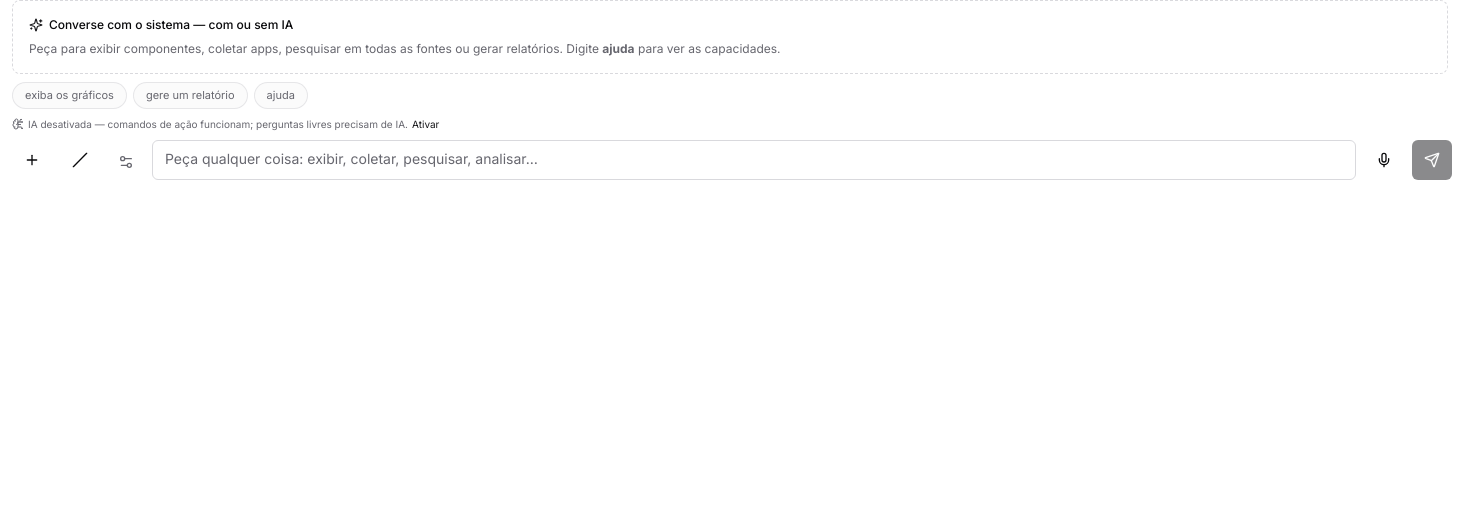
Test case: UnifiedChatPanel — sem IA (ações locais) › "exiba os gráficos" renderiza o componente real na conversa
The image size is (1464, 531).
Type "exiba os gráficos" into the text box named "Mensagem para a IA" at (754, 160), box [152,140,1356,180]
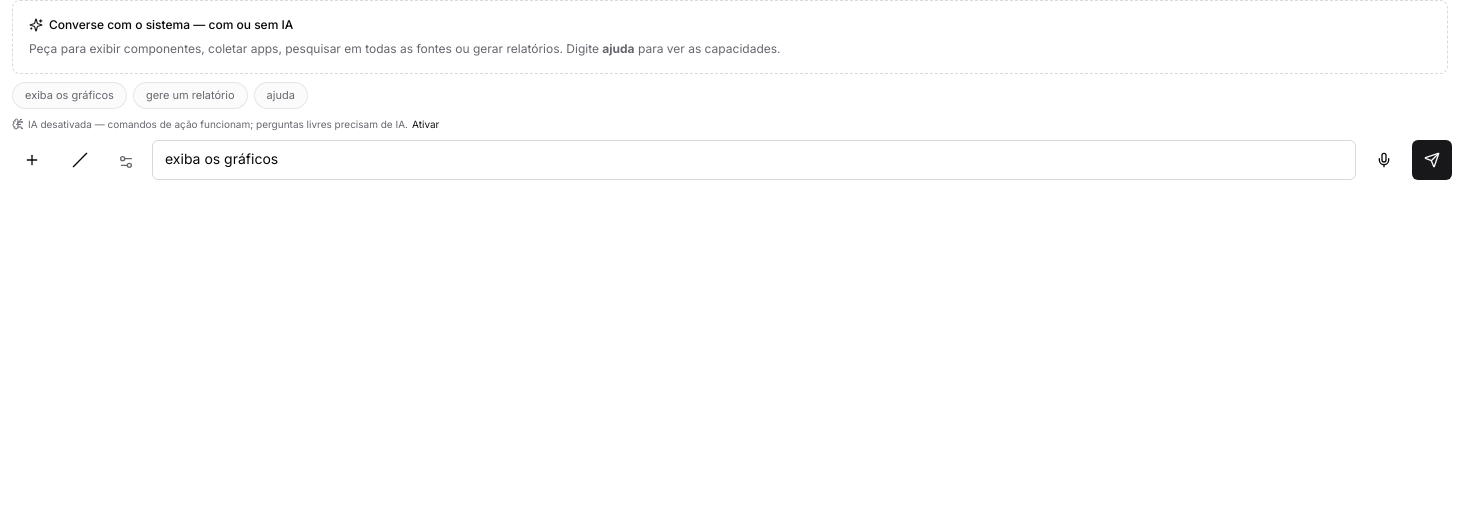
Press Enter in the text box named "Mensagem para a IA", box [152,140,1356,180]
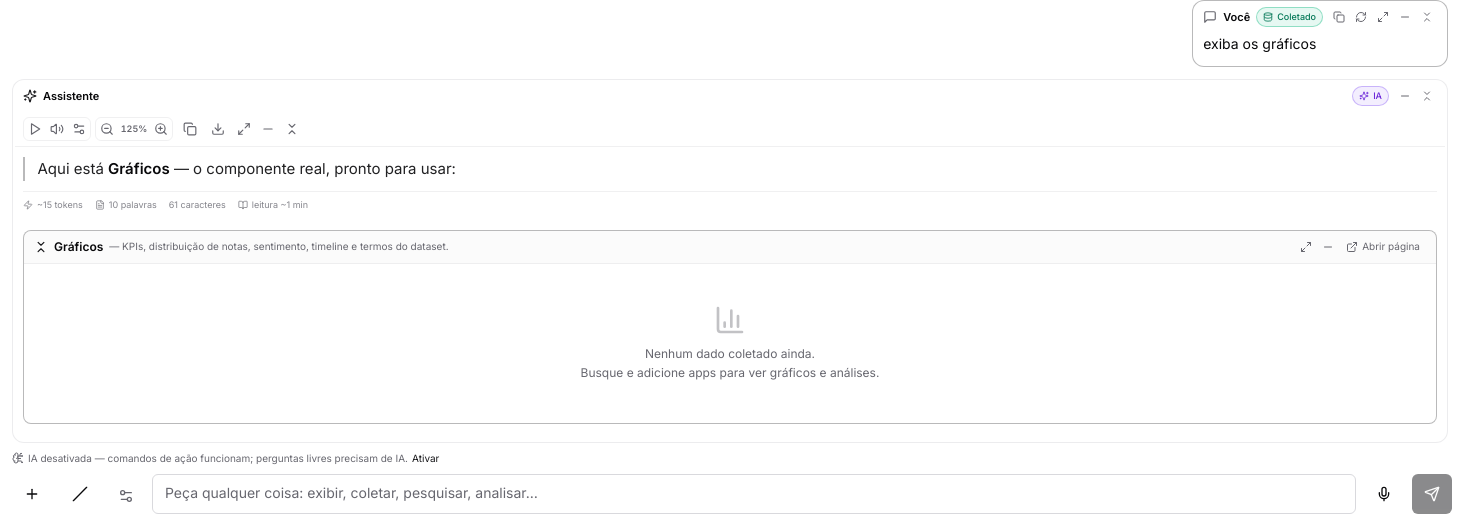
Now the element named "Componente embutido: Gráficos" is shown, box [23,230,1437,424]
